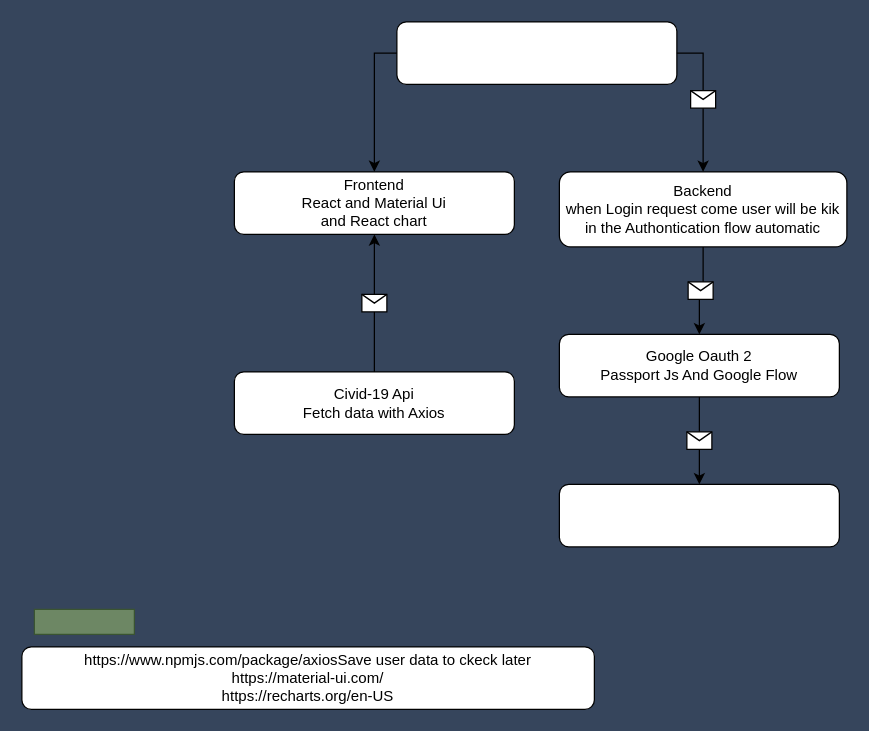
Some shapes in this 869 by 731 pixel diagram are drawn without their labels. Each missing label, with the centre of its shape:
"Covid-19 Information Center" goes at [536,52].
"Libraries" goes at [83,621].
"MongoDb Atlas Save user data to ckeck later" goes at [698,515].
